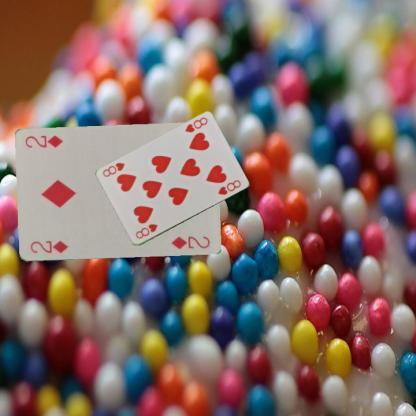2d: (27, 238, 69, 255)
8h: (182, 115, 209, 134), (133, 222, 159, 240)
